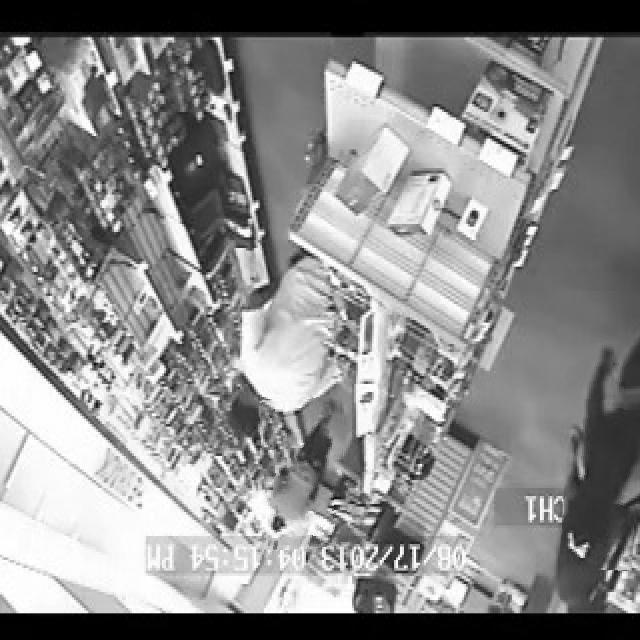Normal: (564, 291, 640, 570), (262, 397, 347, 549)
